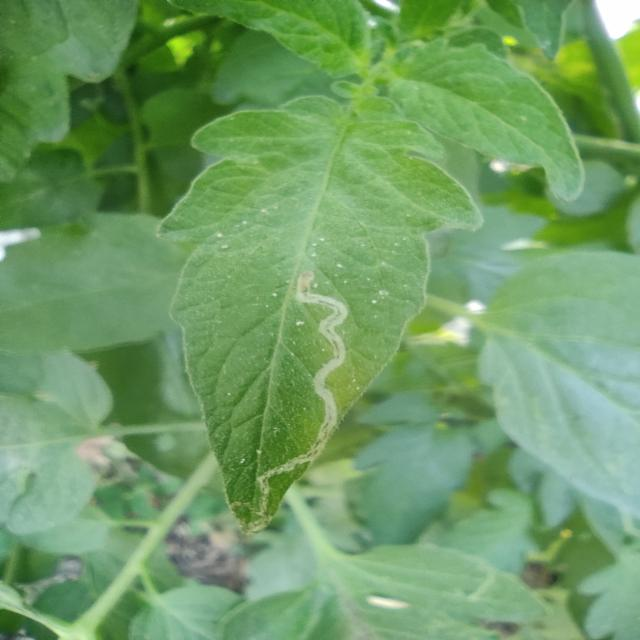Tuta absoluta: (252, 269, 365, 519)
